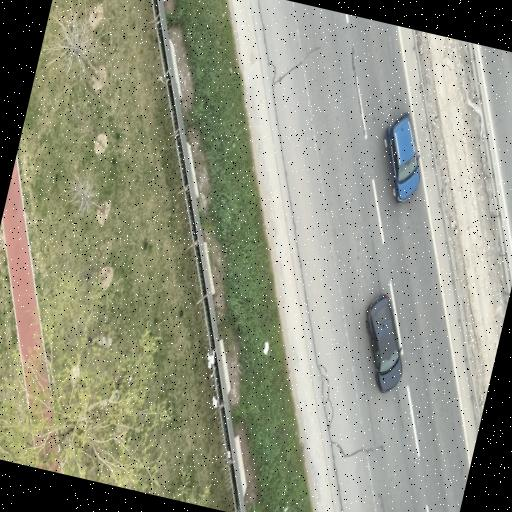car: (366, 294, 401, 391), (384, 112, 419, 202)
